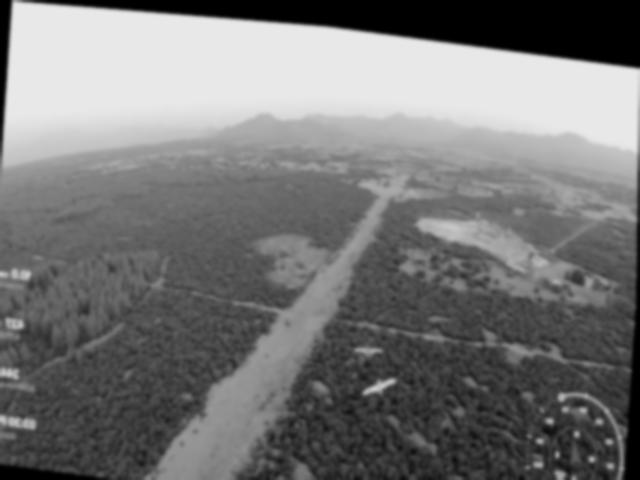hedef: (361, 358, 402, 399), (348, 327, 384, 363)
